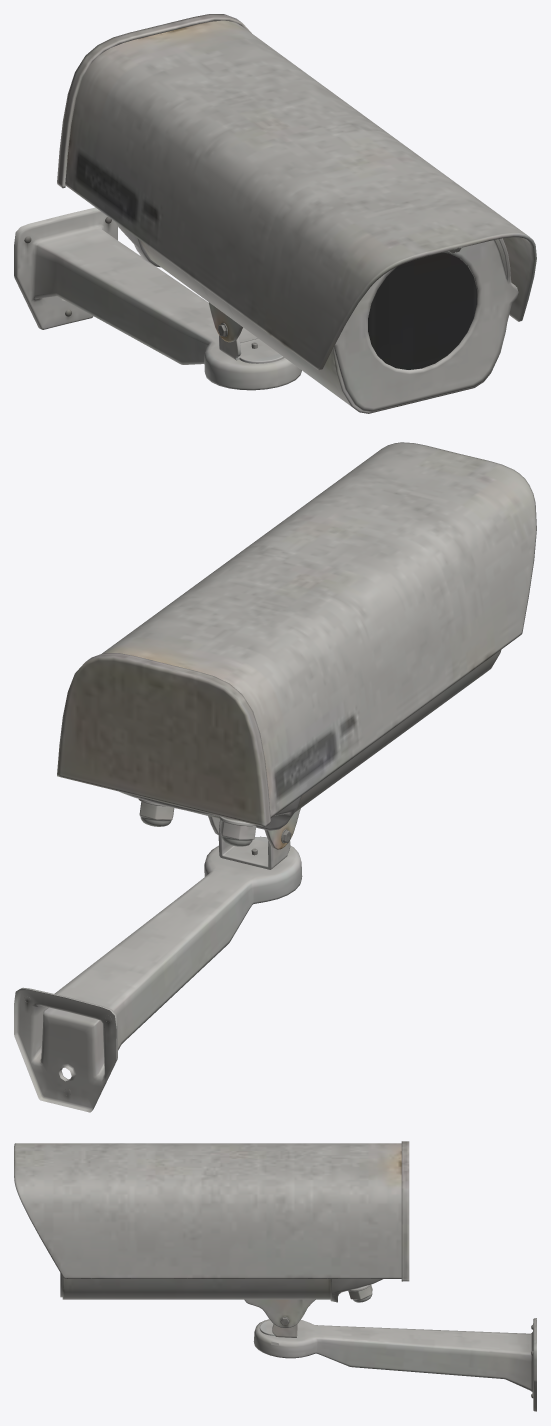
Rendered from security_camera.glb.
3 views of the same model, one above another, from view 1: azimuth 30°, elevation 25°; view 2: azimuth 150°, elevation 25°; view 3: azimuth 270°, elevation 25° (orthographic). The views are drawn at different scales.
Visible parts, largest first — view 1: security_camera_01; view 2: security_camera_01; view 3: security_camera_01.
Part boxes in pixels (x1,y1,x2,y2): security_camera_01: (14,14,536,413); security_camera_01: (14,442,536,1112); security_camera_01: (14,1141,536,1411).
Size of the model in its own units: 0.1696 by 0.286 by 0.5537.
Materials: 2 (2 with a texture image).
